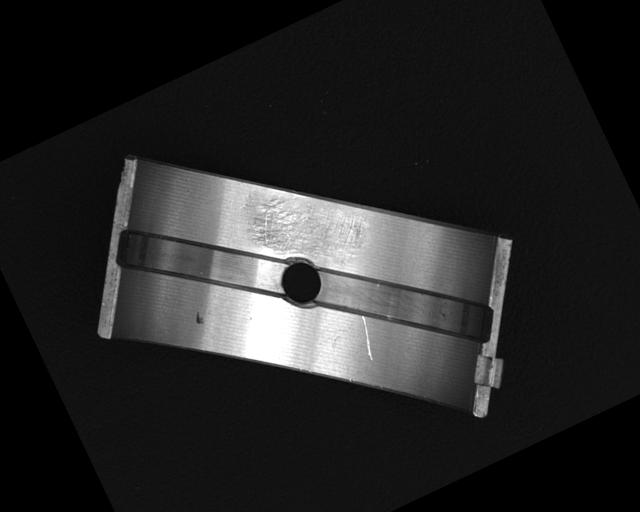bruise: (191, 309, 206, 327)
gap: (303, 219, 497, 394), (106, 179, 290, 347)
hole: (270, 253, 330, 313)
nick: (352, 315, 382, 361)
scratch: (241, 165, 378, 295)
